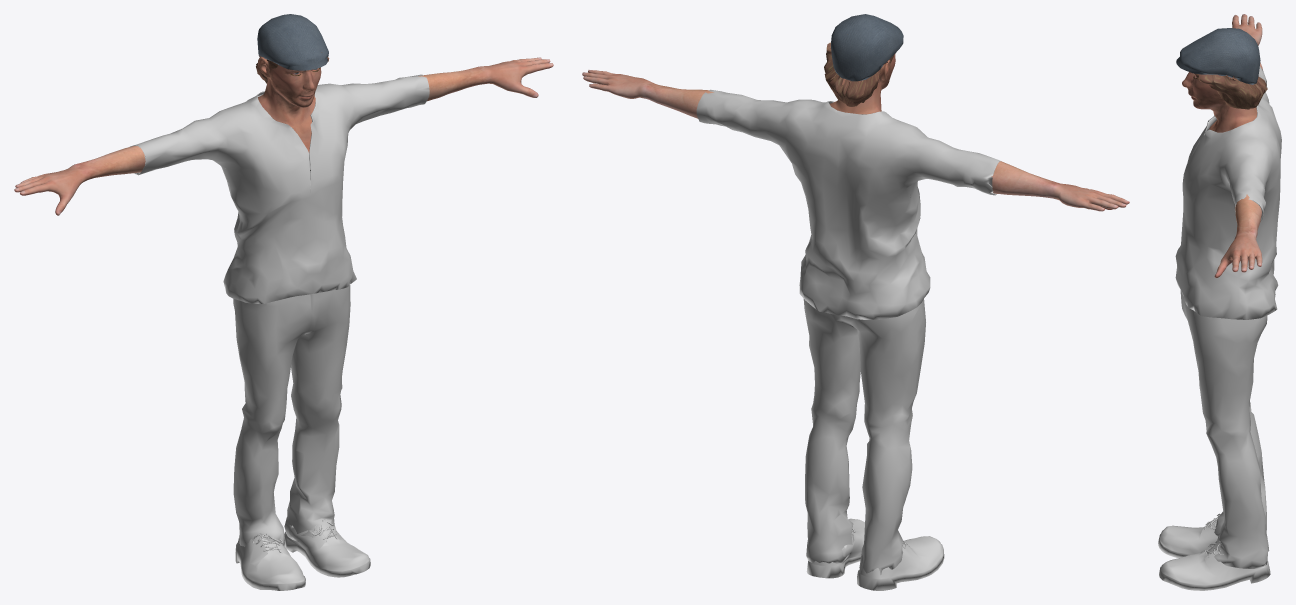
The model's file is decimated-40_LeonTraveler.fbx.
The picture shows the model from 3 angles, left to right: view 1: azimuth 30°, elevation 25°; view 2: azimuth 150°, elevation 25°; view 3: azimuth 270°, elevation 25°; orthographic projection. The views are drawn at different scales.
Parts seen in each view (by area): view 1: Tops, Bottoms, Body, Shoes, Hats; view 2: Tops, Bottoms, Body, Shoes, Hats, Hair; view 3: Tops, Bottoms, Shoes, Body, Hats, Hair.
Part boxes in pixels (left/top/right/bottom): Tops: left=130, top=74, right=429, bottom=303; Bottoms: left=233, top=285, right=350, bottom=546; Body: left=14, top=57, right=553, bottom=215; Shoes: left=235, top=519, right=370, bottom=590; Hats: left=257, top=14, right=328, bottom=70; Tops: left=696, top=89, right=1000, bottom=319; Bottoms: left=803, top=299, right=925, bottom=574; Body: left=582, top=53, right=1129, bottom=211; Shoes: left=806, top=518, right=944, bottom=590; Hats: left=830, top=14, right=903, bottom=81; Hair: left=824, top=34, right=893, bottom=106; Tops: left=1175, top=66, right=1281, bottom=319; Bottoms: left=1180, top=290, right=1268, bottom=568; Shoes: left=1158, top=513, right=1270, bottom=590; Body: left=1182, top=14, right=1262, bottom=277; Hats: left=1176, top=28, right=1260, bottom=84; Hair: left=1195, top=73, right=1267, bottom=109.
Size of the model in its own units: 18711 by 18205 by 3826.
